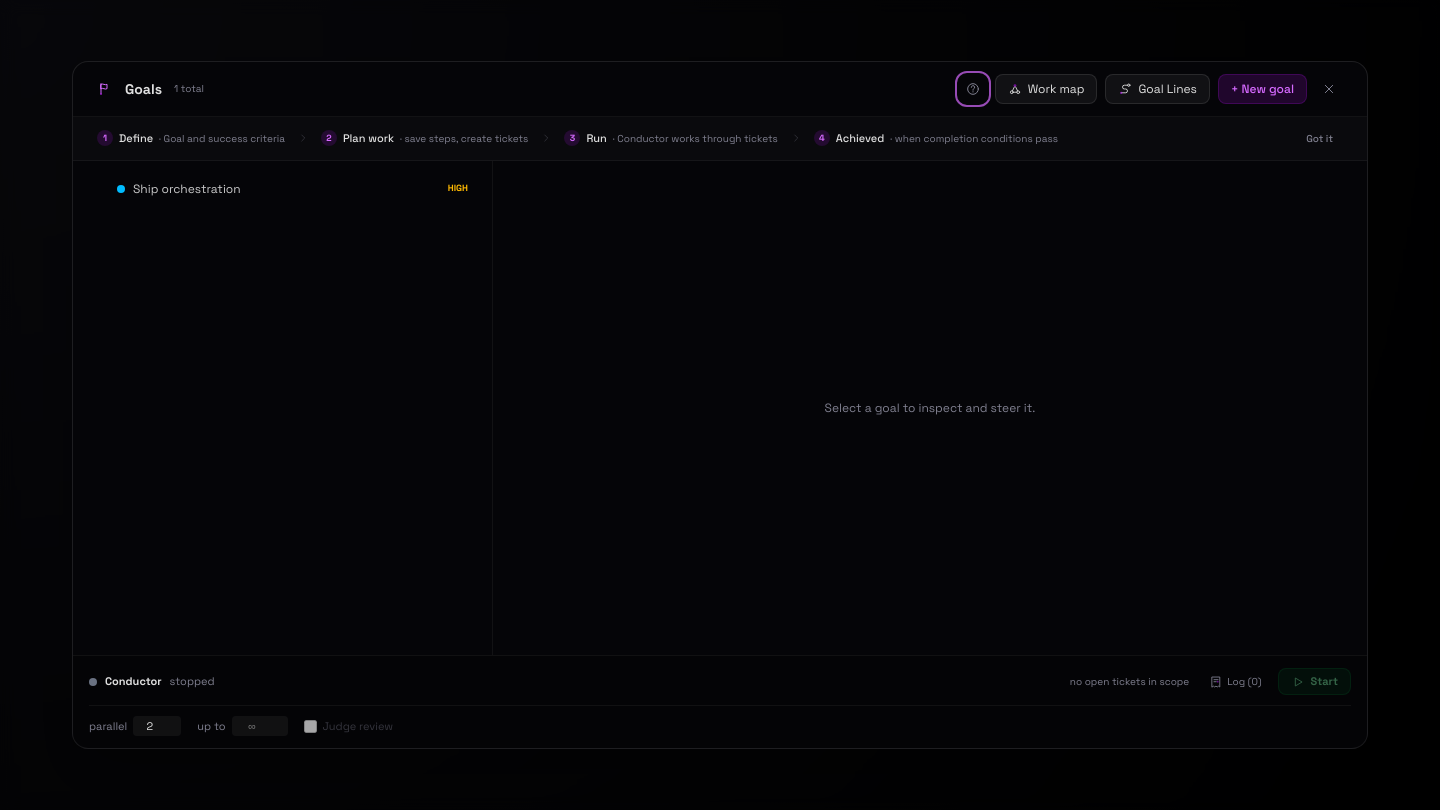
Test case: GoalsModal › opens the create dialog
Click the button with test id "goals-create-btn": point(1262, 89) [1218,74,1307,104]
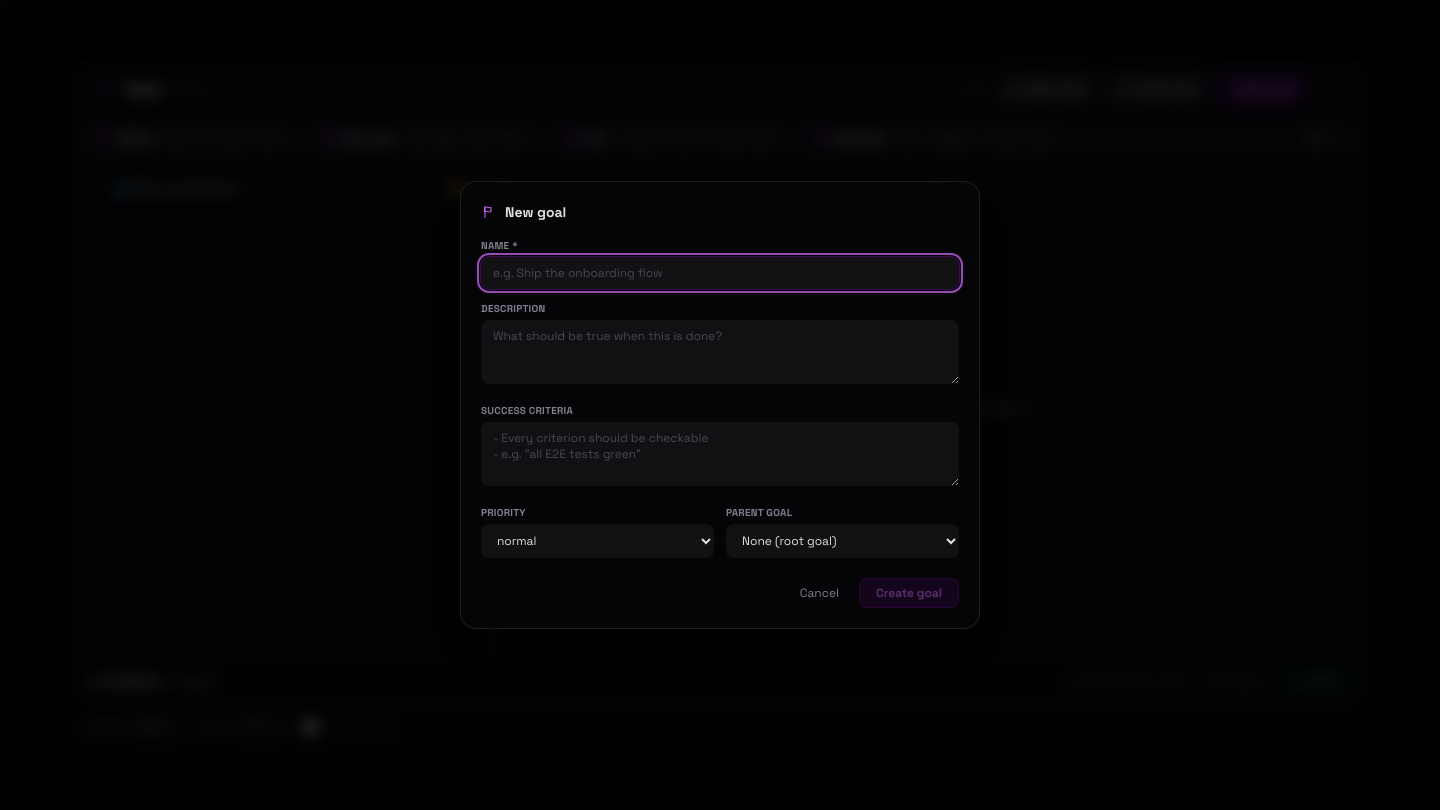
Now the element with test id "goal-create-dialog" is shown
